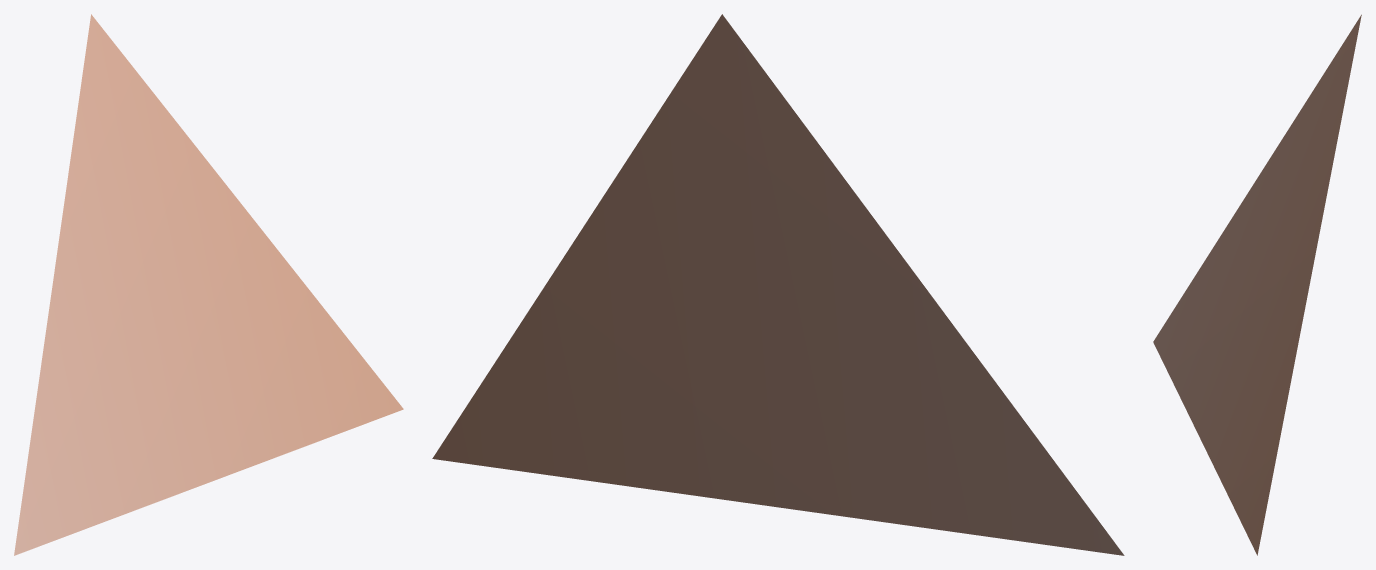
Rendered from yashvi-shoe.glb.
The picture shows the model from 3 angles, left to right: view 1: azimuth 30°, elevation 25°; view 2: azimuth 150°, elevation 25°; view 3: azimuth 270°, elevation 25°; orthographic projection. The views are drawn at different scales.
Parts seen in each view (by area): view 1: YashviShoe; view 2: YashviShoe; view 3: YashviShoe.
Part boxes in pixels (x1,y1,x2,y2): YashviShoe: (14, 14, 403, 555); YashviShoe: (432, 14, 1124, 555); YashviShoe: (1153, 14, 1361, 555).
Size of the model in its own units: 0.97 by 0.88 by 0.4.
